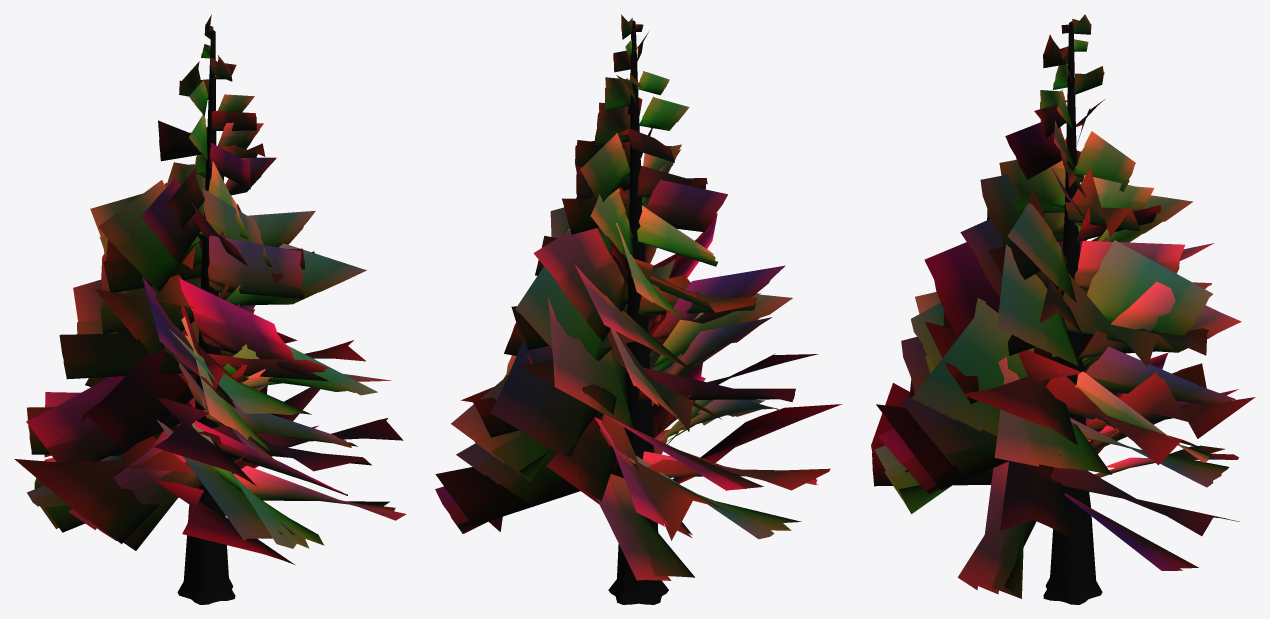
File: Tree_PineSmall.FBX
3 views of the same model, side by side, from view 1: azimuth 30°, elevation 25°; view 2: azimuth 150°, elevation 25°; view 3: azimuth 270°, elevation 25° (orthographic). The views are drawn at different scales.
Parts seen in each view (by area): view 1: Tree_PineSmall; view 2: Tree_PineSmall; view 3: Tree_PineSmall.
Boxes of the visible parts, x1,y1,x2,y2 form: Tree_PineSmall: (14, 14, 406, 604); Tree_PineSmall: (435, 14, 842, 604); Tree_PineSmall: (871, 14, 1255, 604).
Bounding box in the file's own units: 148 × 242 × 145.
